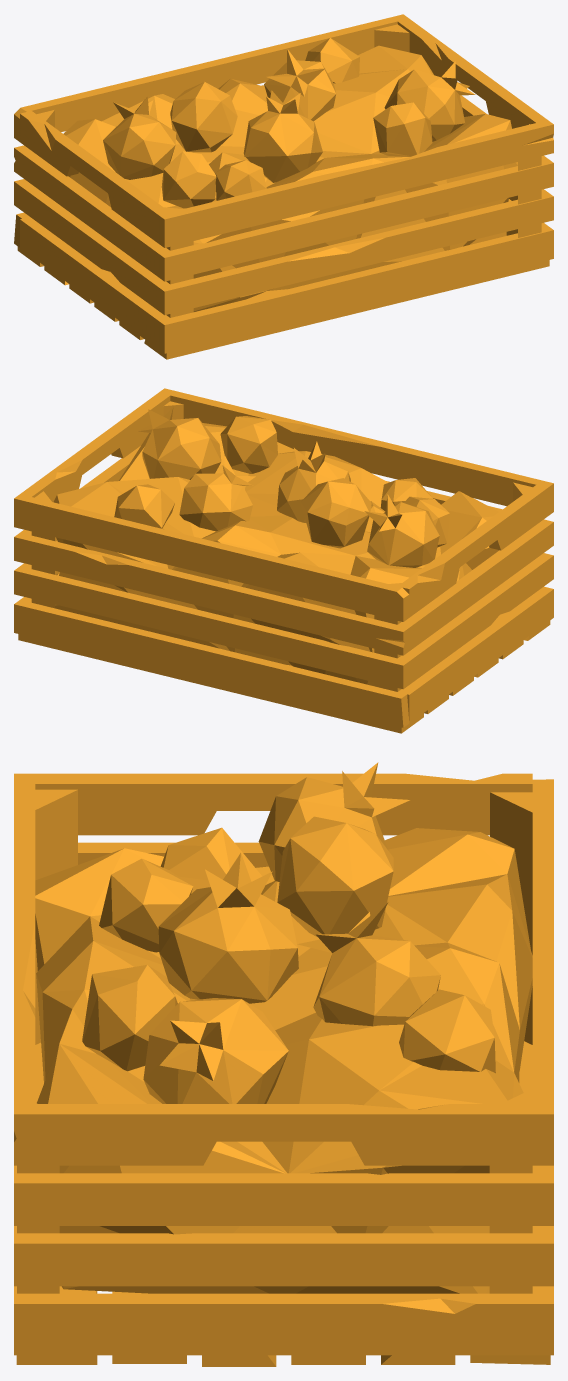
Rendered from SM_Crate_Wood_Medium_Tomatoes.fbx.
3 views of the same model, one above another, from view 1: azimuth 30°, elevation 25°; view 2: azimuth 150°, elevation 25°; view 3: azimuth 270°, elevation 25° (orthographic). The views are drawn at different scales.
Visible parts, largest first — view 1: crate-wood-medium-tomatoes; view 2: crate-wood-medium-tomatoes; view 3: crate-wood-medium-tomatoes.
Boxes of the visible parts, left/top/right/bottom form: crate-wood-medium-tomatoes: left=14, top=14, right=553, bottom=359; crate-wood-medium-tomatoes: left=14, top=388, right=553, bottom=733; crate-wood-medium-tomatoes: left=14, top=762, right=553, bottom=1366.
Size of the model in its own units: 0.6067 by 0.2691 by 0.4063.
